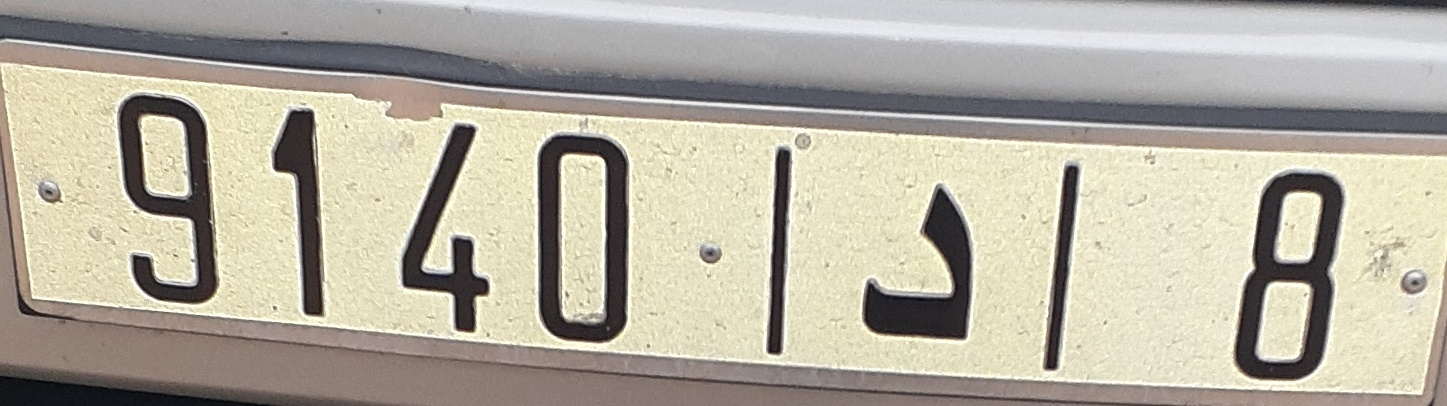0: (526, 122, 640, 359)
1: (256, 98, 334, 330)
4: (387, 119, 502, 345)
8: (1227, 166, 1348, 385)
9: (102, 84, 232, 318)
d: (855, 175, 988, 356)
